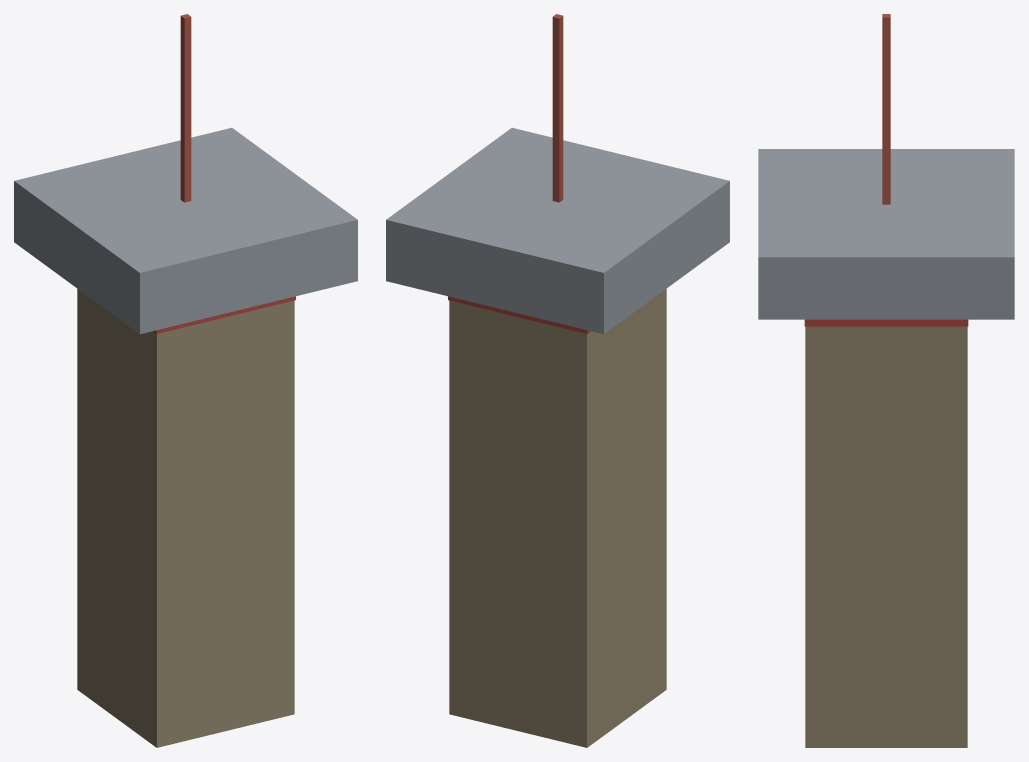
The model's file is bw-tower.tone-v1.lod2.glb.
The picture shows the model from 3 angles, left to right: view 1: azimuth 30°, elevation 25°; view 2: azimuth 150°, elevation 25°; view 3: azimuth 270°, elevation 25°; orthographic projection.
Parts seen in each view (by area): view 1: bw-tower; view 2: bw-tower; view 3: bw-tower.
Boxes of the visible parts, left/top/right/bottom form: bw-tower: left=14, top=14, right=357, bottom=747; bw-tower: left=386, top=14, right=729, bottom=747; bw-tower: left=758, top=14, right=1014, bottom=747.
Size of the model in its own units: 15.8 by 47.5 by 15.8.
